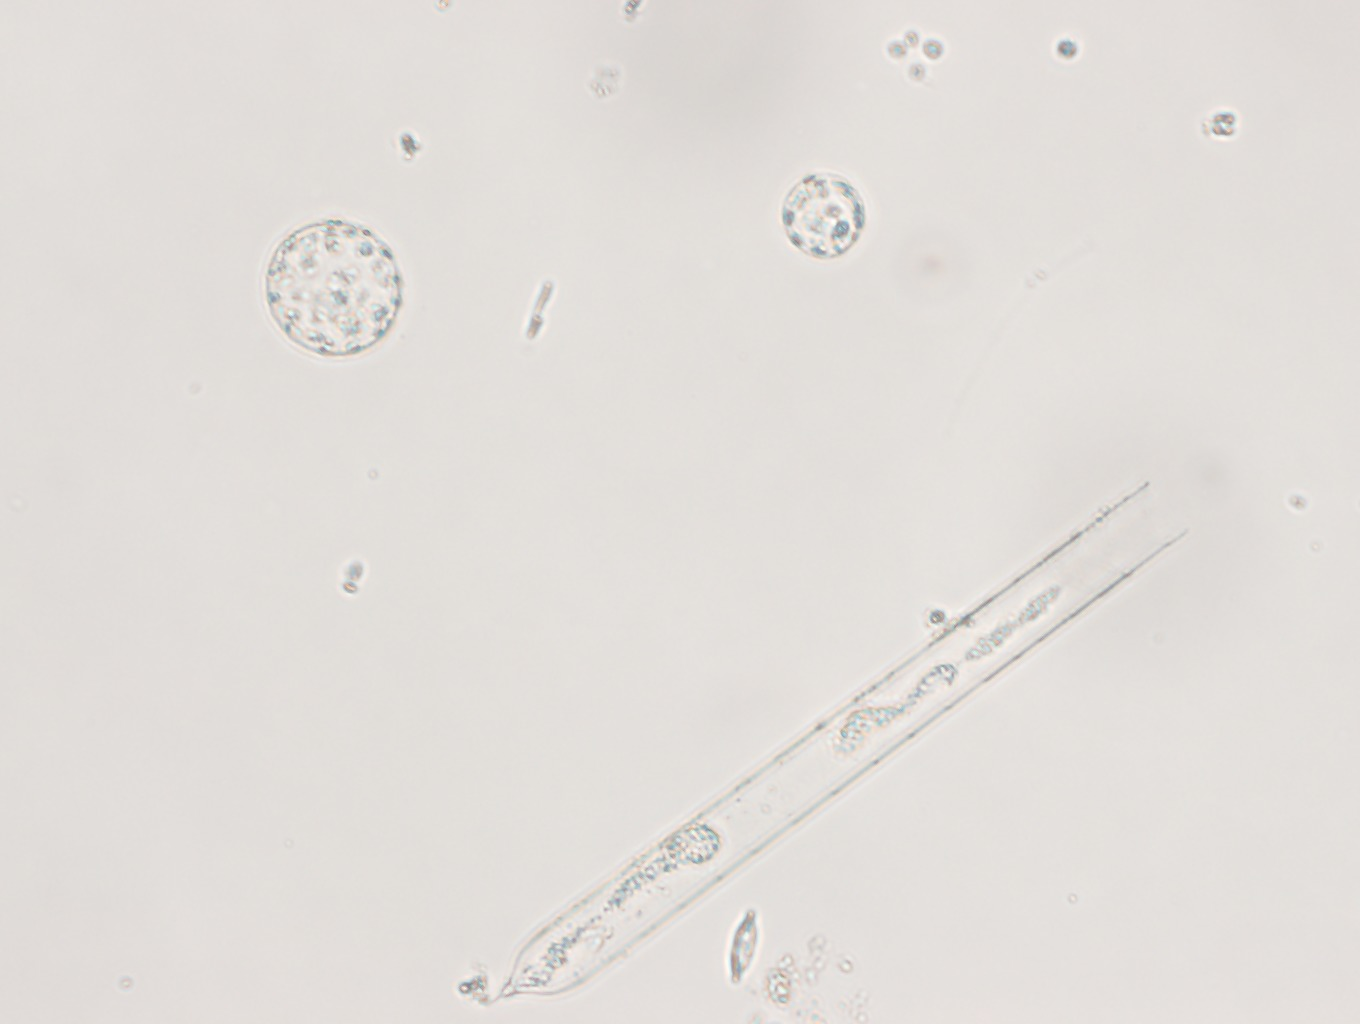rhizosolenia: (472, 469, 1198, 1009)
